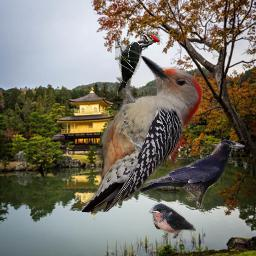Crow: (138, 139, 245, 216)
Swallow: (149, 203, 196, 239)
Woodpecker: (82, 56, 203, 212), (115, 31, 160, 96)
